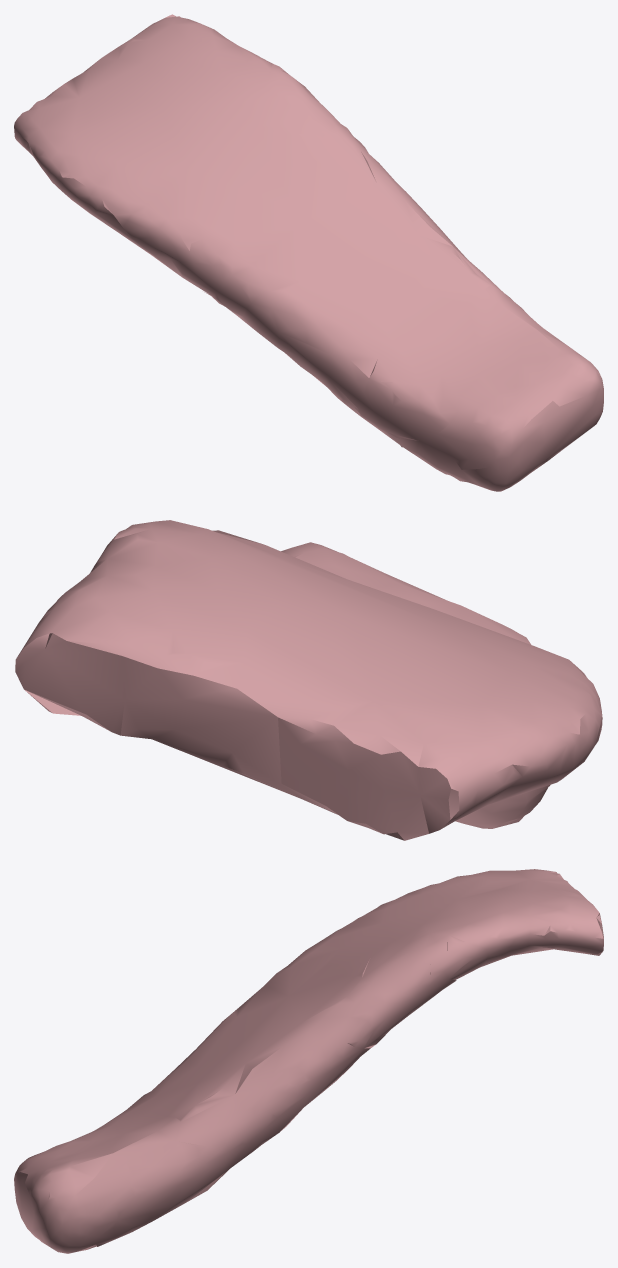
Rendered from fma56774_mm1022m.glb.
3 views of the same model, one above another, from view 1: azimuth 30°, elevation 25°; view 2: azimuth 150°, elevation 25°; view 3: azimuth 270°, elevation 25° (orthographic). The views are drawn at different scales.
Visible parts, largest first — view 1: FMA56774_MM1022M; view 2: FMA56774_MM1022M; view 3: FMA56774_MM1022M.
Boxes of the visible parts, bbox=[...] form: FMA56774_MM1022M: bbox=[14, 14, 603, 491]; FMA56774_MM1022M: bbox=[15, 520, 602, 840]; FMA56774_MM1022M: bbox=[14, 869, 603, 1253].
Size of the model in its own units: 0.00189 by 0.00148 by 0.00265.
